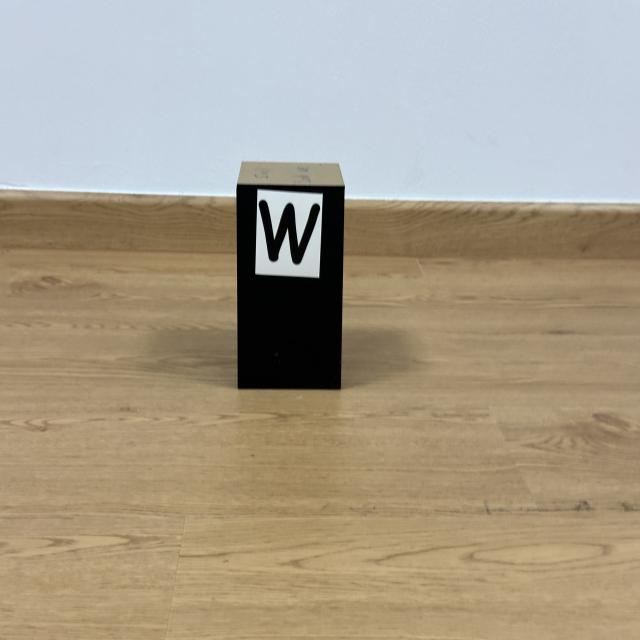W: (259, 200, 320, 265)
